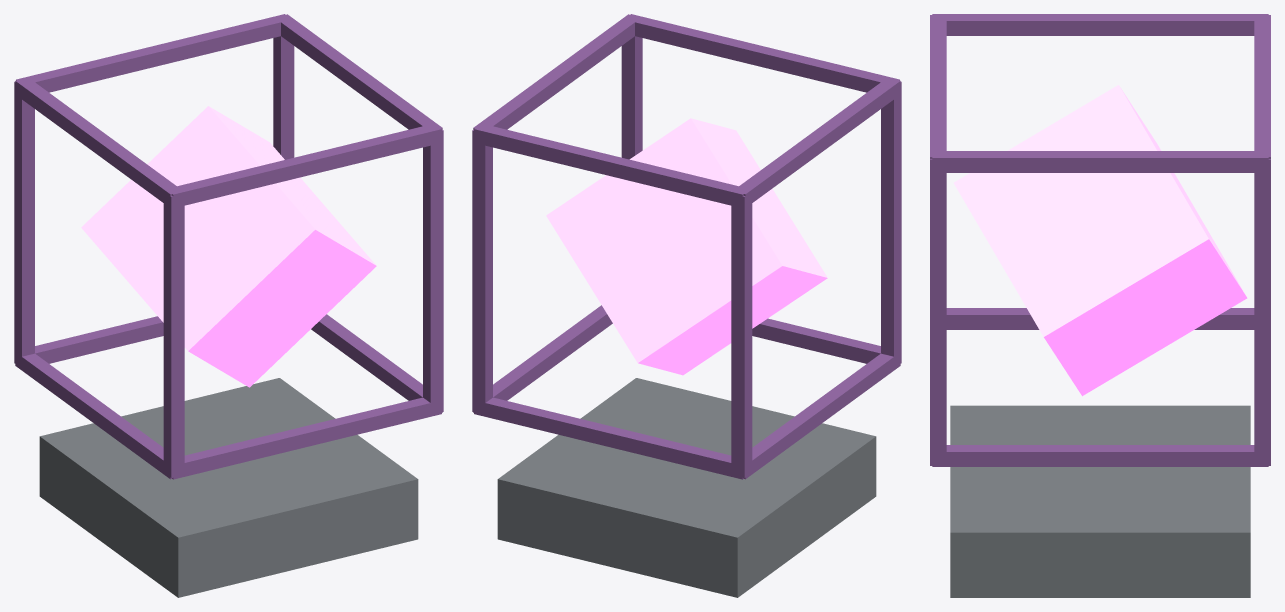
Rendered from end_crystal.fbx.
3 views of the same model, side by side, from view 1: azimuth 30°, elevation 25°; view 2: azimuth 150°, elevation 25°; view 3: azimuth 270°, elevation 25° (orthographic). The views are drawn at different scales.
Visible parts, largest first — view 1: base, crystal, frame_vertical, frame_cross.001, frame_cross, frame_vertical.001, frame_cross.003, frame_vertical.002, frame_horizontal.001, frame_horizontal, frame_horizontal.003, frame_horizontal.002 (+2 smaller); view 2: base, crystal, frame_vertical.001, frame_cross.003, frame_vertical.003, frame_cross.002, frame_vertical, frame_cross.001, frame_horizontal.001, frame_horizontal, frame_horizontal.003, frame_horizontal.002 (+2 smaller); view 3: base, crystal, frame_horizontal.003, frame_horizontal.002, frame_horizontal.001, frame_vertical.002, frame_vertical.003, frame_horizontal, frame_cross.001, frame_cross.003.
Boxes of the visible parts, x1,y1,x2,y2 form: base: (39, 378, 418, 597); crystal: (81, 106, 376, 387); frame_vertical: (163, 194, 184, 477); frame_cross.001: (166, 123, 441, 208); frame_cross: (172, 397, 441, 479); frame_vertical.001: (14, 81, 34, 365); frame_cross.003: (16, 14, 291, 92); frame_vertical.002: (423, 130, 443, 411); frame_horizontal.001: (15, 78, 176, 207); frame_horizontal: (15, 352, 172, 479); frame_horizontal.003: (277, 14, 442, 130); frame_horizontal.002: (311, 314, 442, 412); base: (497, 378, 876, 597); crystal: (546, 118, 827, 375); frame_vertical.001: (731, 192, 752, 477); frame_cross.003: (474, 123, 749, 208); frame_vertical.003: (472, 130, 492, 414); frame_cross.002: (474, 397, 743, 479); frame_vertical: (881, 81, 901, 368); frame_cross.001: (624, 14, 899, 92); frame_horizontal.001: (733, 79, 900, 205); frame_horizontal: (743, 353, 900, 479); frame_horizontal.003: (473, 14, 638, 130); frame_horizontal.002: (473, 305, 612, 412); base: (950, 405, 1250, 597); crystal: (953, 85, 1247, 396); frame_horizontal.003: (932, 151, 1268, 172); frame_horizontal.002: (932, 445, 1268, 466); frame_horizontal.001: (932, 14, 1268, 35); frame_vertical.002: (930, 159, 946, 464); frame_vertical.003: (1254, 159, 1270, 464); frame_horizontal: (946, 308, 1254, 329); frame_cross.001: (930, 15, 946, 159); frame_cross.003: (1254, 15, 1270, 159).
Size of the model in its own units: 1.14 by 1.65 by 1.14.
